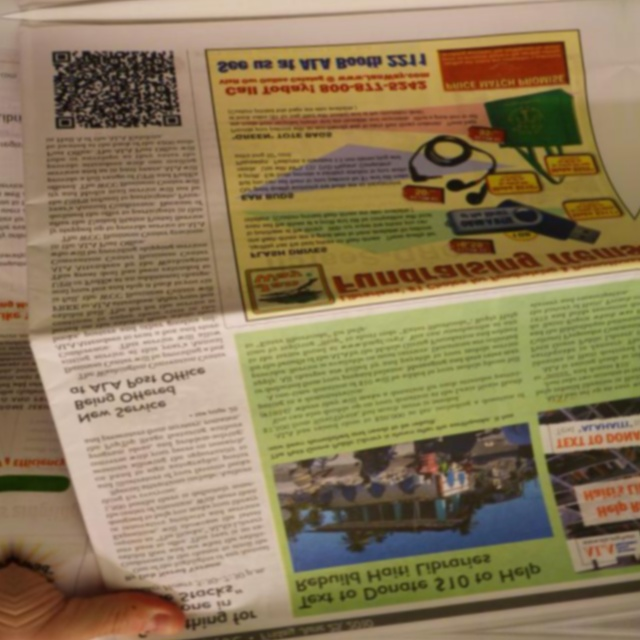qr-code: (52, 45, 181, 133)
